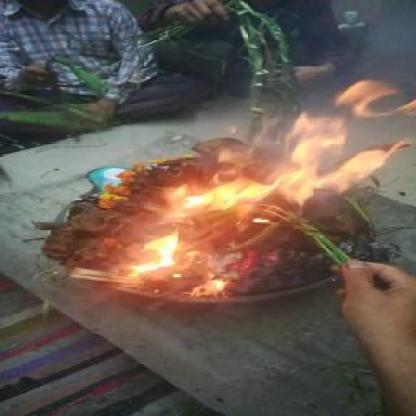Fire: (125, 78, 416, 291)
